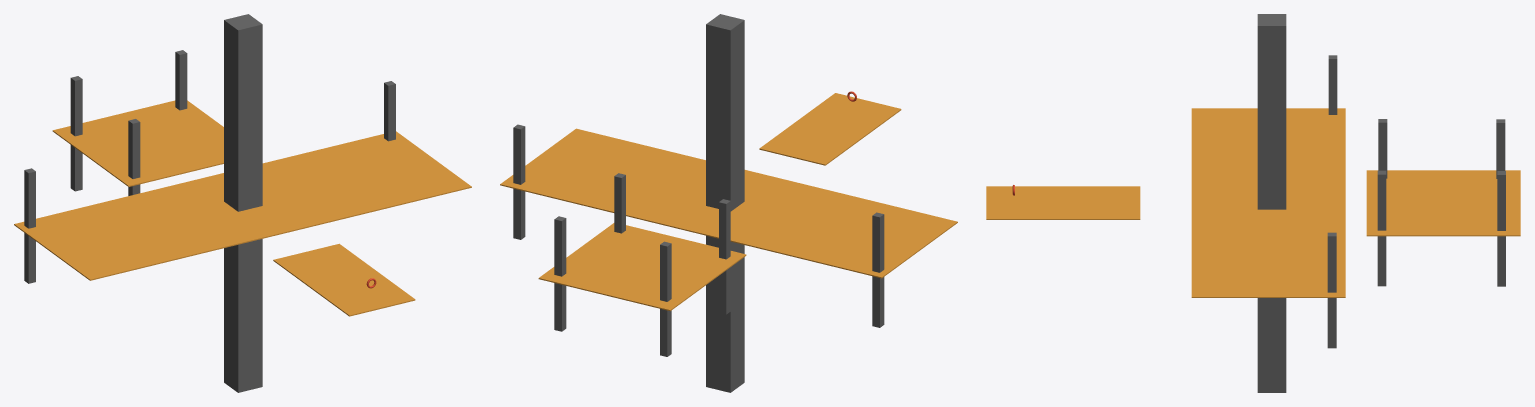
Rendered from worldSceneWithCollections.gltf.
The picture shows the model from 3 angles, left to right: view 1: azimuth 30°, elevation 25°; view 2: azimuth 150°, elevation 25°; view 3: azimuth 270°, elevation 25°; orthographic projection.
Visible parts, largest first — view 1: platform2, Cube.006, platform1, platform3, Cube.003, Cube.005, Cube.001, Cube, Cube.004; view 2: platform2, Cube.006, platform1, platform3, Cube.005, Cube.004, Cube, Cube.003, Cube.001, Cube.002; view 3: platform2, platform1, Cube.006, platform3, Cube.004, Cube.002, Cube, Cube.005, Cube.001, Cube.003.
Part boxes in pixels (x1=…): platform2: x1=14, y1=131, x2=471, y2=280; Cube.006: x1=224, y1=14, x2=262, y2=392; platform1: x1=52, y1=100, x2=223, y2=186; platform3: x1=273, y1=243, x2=415, y2=316; Cube.003: x1=70, y1=76, x2=82, y2=191; Cube.005: x1=24, y1=168, x2=35, y2=283; Cube.001: x1=128, y1=119, x2=140, y2=195; Cube: x1=175, y1=50, x2=187, y2=110; Cube.004: x1=384, y1=81, x2=395, y2=141; platform2: x1=500, y1=128, x2=957, y2=278; Cube.006: x1=706, y1=14, x2=744, y2=392; platform1: x1=538, y1=223, x2=746, y2=311; platform3: x1=759, y1=93, x2=901, y2=165; Cube.005: x1=872, y1=212, x2=884, y2=327; Cube.004: x1=513, y1=124, x2=525, y2=239; Cube: x1=554, y1=216, x2=566, y2=331; Cube.003: x1=660, y1=241, x2=671, y2=356; Cube.001: x1=719, y1=199, x2=730, y2=314; Cube.002: x1=614, y1=173, x2=625, y2=233; platform2: x1=1191, y1=108, x2=1345, y2=297; platform1: x1=1366, y1=170, x2=1520, y2=236; Cube.006: x1=1257, y1=14, x2=1286, y2=392; platform3: x1=986, y1=186, x2=1140, y2=219; Cube.004: x1=1327, y1=232, x2=1336, y2=348; Cube.002: x1=1377, y1=170, x2=1386, y2=286; Cube: x1=1497, y1=171, x2=1505, y2=286; Cube.005: x1=1328, y1=55, x2=1337, y2=114; Cube.001: x1=1378, y1=119, x2=1387, y2=178; Cube.003: x1=1496, y1=119, x2=1505, y2=178.
Size of the model in its own units: 102 by 92.32 by 122.
